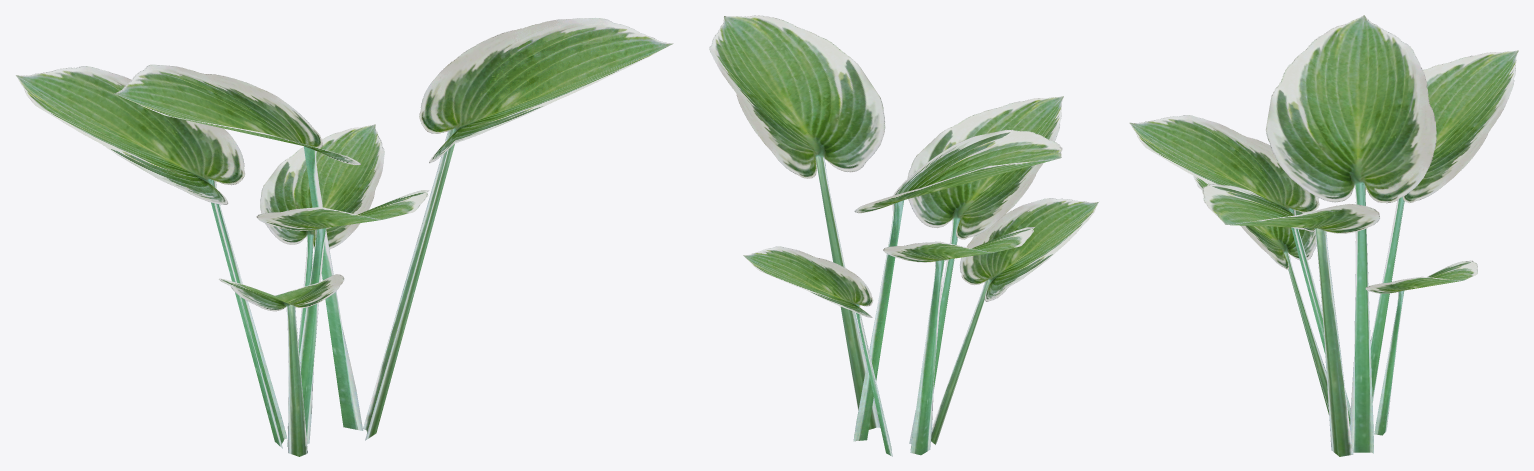
The model's file is plant_small_wg_05AA3.fbx.
3 renders of one model, left to right at view 1: azimuth 30°, elevation 25°; view 2: azimuth 150°, elevation 25°; view 3: azimuth 270°, elevation 25°, orthographic. The views are drawn at different scales.
Parts seen in each view (by area): view 1: plant_small_wg_05AA3; view 2: plant_small_wg_05AA3; view 3: plant_small_wg_05AA3.
Part boxes in pixels (x1,y1,x2,y2): plant_small_wg_05AA3: [16, 18, 673, 456]; plant_small_wg_05AA3: [709, 15, 1098, 456]; plant_small_wg_05AA3: [1129, 15, 1518, 456].
Bounding box in the file's own units: 46.09 × 34.41 × 36.16.
